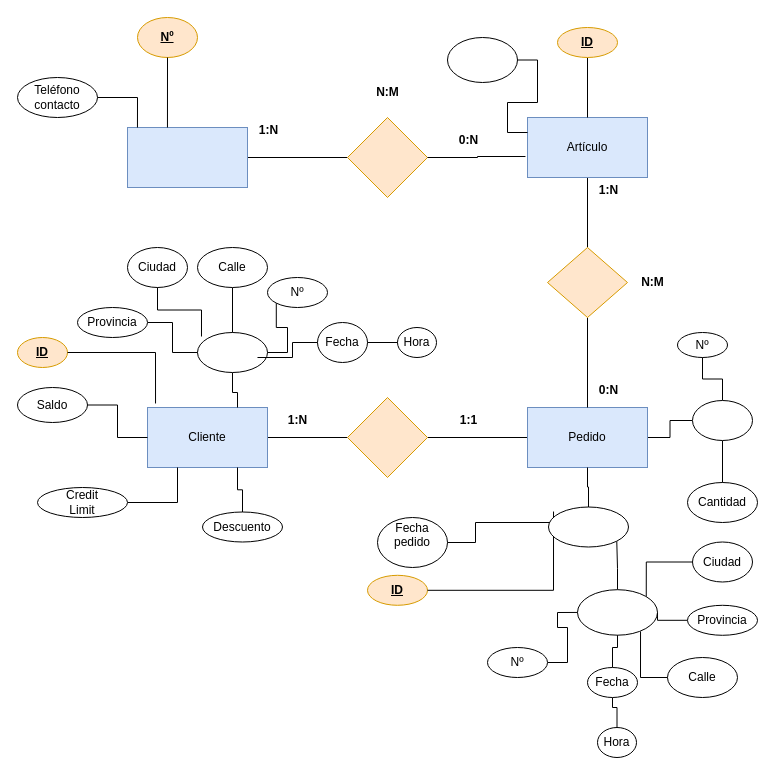
Image size: 775x775. Some labels were removed from this diagram. The shapes that lost their labels are listed below. From the top down, each one's centre as x and y in pixels, then its label:
At (482,59): "Descripción".
At (187,157): "Fábrica".
At (387,157): "Produce".
At (587,282): "Tiene".
At (232,352): "Dirección".
At (387,437): "Hace".
At (722,420): "Cuerpo".
At (588,526): "Cabecera".
At (617,612): "Dirección envío".
